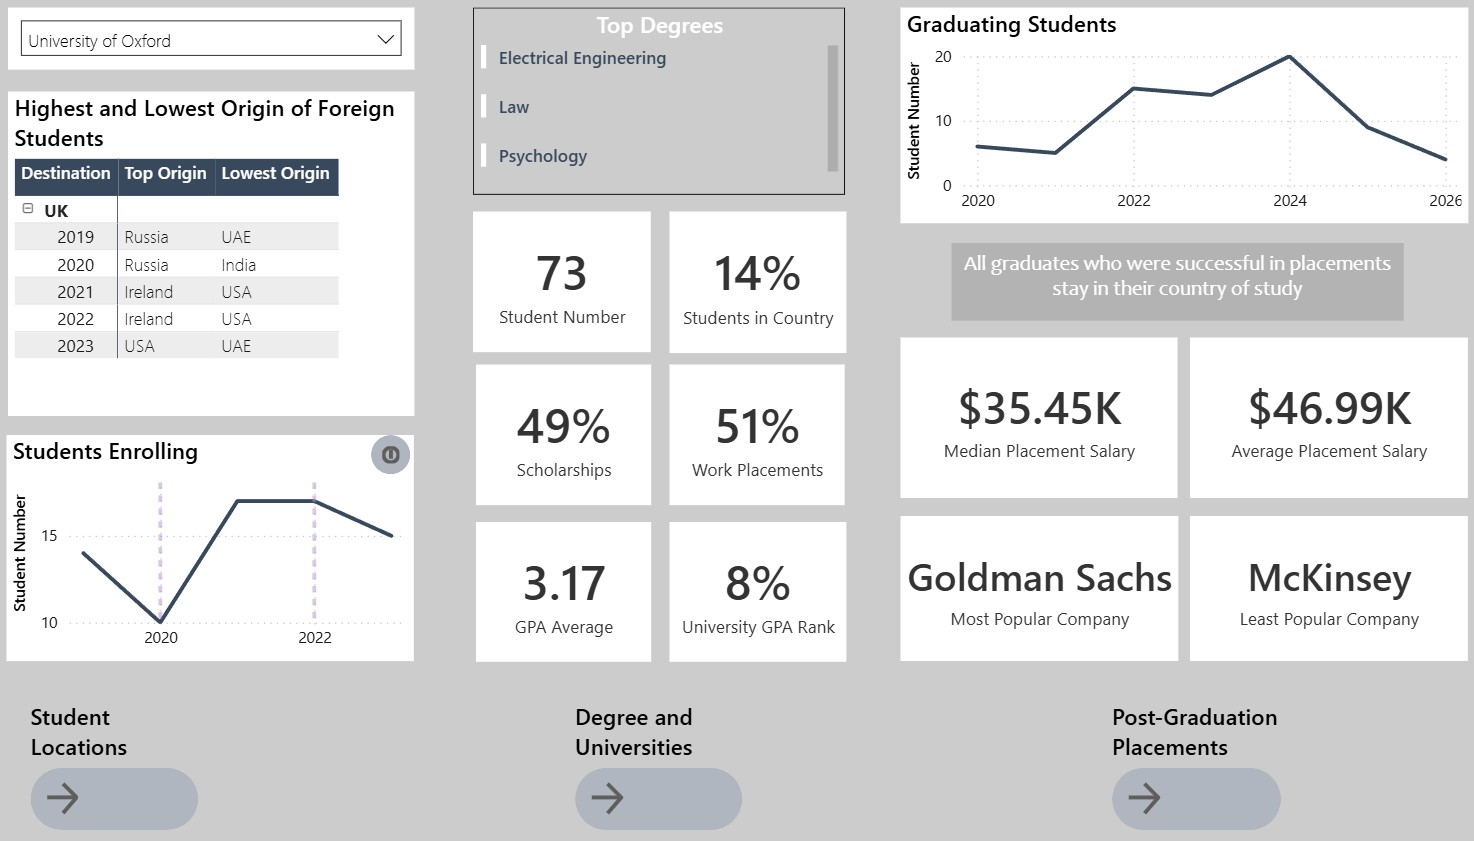

Layout of this report page (visuals, bound fields, positions):
{"tool":"powerbi","page":{"name":"University Dashboard","canvas":[1280,720],"ordinal":0},"visuals":[{"type":"group","id":"g1","title":"Group 1","box":[80.4,4.4,1180.4,694.1],"z":0},{"type":"actionButton","title":"Student Locations","box":[98.4,598.8,129.7,99.7],"z":0,"group":"g1"},{"type":"actionButton","title":"Degree and Universities","box":[519.3,598.5,129.3,99.9],"z":1000,"group":"g1"},{"type":"actionButton","title":"Post-Graduation Placements","box":[934.5,598.5,130.6,99.9],"z":2000,"group":"g1"},{"type":"pivotTable","title":"Highest and Lowest Origin of Foreign Students","fields":{"Rows":["global_student_migration.destination_country","global_student_migration.year_of_enrollment"],"Values":["global_student_migration.TopOriginCountry","global_student_migration.BottomOriginCountry"]},"box":[81.2,128.3,314.2,250.4],"z":3000,"group":"g1"},{"type":"lineChart","title":"Students Enrolling","fields":{"Category":["global_student_migration.year_of_enrollment"],"Y":["global_student_migration.Student Number"]},"box":[80.4,393.9,314.9,174.5],"z":4000,"group":"g1"},{"type":"slicer","fields":{"Values":["global_student_migration.university_name"]},"box":[81.2,63,314.2,47.8],"z":5000,"group":"g1"},{"type":"card","fields":{"Values":["global_student_migration.GPAavg"]},"box":[443.1,461.2,135.6,108],"z":6000,"group":"g1"},{"type":"card","fields":{"Values":["global_student_migration.ProportionScholarship"]},"box":[443.1,339.5,135.6,108.6],"z":7000,"group":"g1"},{"type":"multiRowCard","title":"Top Degrees","fields":{"Values":["global_student_migration.course_name"]},"box":[440.6,63.3,287.5,145],"z":8000,"group":"g1"},{"type":"card","fields":{"Values":["global_student_migration.PercentPlaced"]},"box":[592.4,339.5,135.6,108.6],"z":9000,"group":"g1"},{"type":"card","fields":{"Values":["global_student_migration.Student Number"]},"box":[440.6,221.5,137.5,108.6],"z":10000,"group":"g1"},{"type":"card","fields":{"Values":["global_student_migration.Median Placement Salary"]},"box":[771,318.7,214,123.7],"z":11000,"group":"g1"},{"type":"card","fields":{"Values":["global_student_migration.Avg placement salary"]},"box":[994.9,318.7,214.8,123.7],"z":12000,"group":"g1"},{"type":"card","fields":{"Values":["global_student_migration.TopCompany"]},"box":[771,456.1,214.8,112.3],"z":13000,"group":"g1"},{"type":"card","fields":{"Values":["global_student_migration.BottomCompany"]},"box":[994.9,456.9,214.8,112.3],"z":14000,"group":"g1"},{"type":"textbox","box":[810.5,245.9,349.1,60],"z":15000,"group":"g1"},{"type":"card","fields":{"Values":["global_student_migration.perecStudCountry"]},"box":[592.4,220.8,136.8,109.2],"z":16000,"group":"g1"},{"type":"card","fields":{"Values":["global_student_migration.University GPA Percentile Rank"]},"box":[592.5,461,136.8,108.1],"z":17000,"group":"g1"},{"type":"actionButton","box":[362,393.9,30.4,30.4],"z":18000,"group":"g1"},{"type":"actionButton","box":[1214.6,69.9,46.1,46.8],"z":19000,"group":"g1"},{"type":"lineChart","title":"Graduating Students","fields":{"Y":["global_student_migration.Student Number"],"Category":["global_student_migration.graduation_year"]},"box":[771,63,438.6,167],"z":20000,"group":"g1"},{"type":"textbox","box":[362.1,4.4,597.5,49],"z":21000,"group":"g1"},{"type":"actionButton","box":[302.8,4.6,47.8,49.3],"z":22000,"group":"g1"}]}

Visuals, with their boxes in screenshot pixels (x1, y1, x2, y2), scaled from the page's 1280x720 canvas onto the 1474x841 screenshot:
"Group 1" group: <region>93, 5, 1452, 816</region>
"Student Locations" actionButton: <region>113, 699, 263, 816</region>
"Degree and Universities" actionButton: <region>598, 699, 747, 816</region>
"Post-Graduation Placements" actionButton: <region>1076, 699, 1227, 816</region>
"Highest and Lowest Origin of Foreign Students" pivotTable: <region>94, 150, 455, 442</region>
"Students Enrolling" lineChart: <region>93, 460, 455, 664</region>
slicer - global_student_migration.university_name: <region>94, 74, 455, 129</region>
card - global_student_migration.GPAavg: <region>510, 539, 666, 665</region>
card - global_student_migration.ProportionScholarship: <region>510, 397, 666, 523</region>
"Top Degrees" multiRowCard: <region>507, 74, 838, 243</region>
card - global_student_migration.PercentPlaced: <region>682, 397, 838, 523</region>
card - global_student_migration.Student Number: <region>507, 259, 666, 386</region>
card - global_student_migration.Median Placement Salary: <region>888, 372, 1134, 517</region>
card - global_student_migration.Avg placement salary: <region>1146, 372, 1393, 517</region>
card - global_student_migration.TopCompany: <region>888, 533, 1135, 664</region>
card - global_student_migration.BottomCompany: <region>1146, 534, 1393, 665</region>
textbox: <region>933, 287, 1335, 357</region>
card - global_student_migration.perecStudCountry: <region>682, 258, 840, 385</region>
card - global_student_migration.University GPA Percentile Rank: <region>682, 538, 840, 665</region>
actionButton: <region>417, 460, 452, 496</region>
actionButton: <region>1399, 82, 1452, 136</region>
"Graduating Students" lineChart: <region>888, 74, 1393, 269</region>
textbox: <region>417, 5, 1105, 62</region>
actionButton: <region>349, 5, 404, 63</region>
